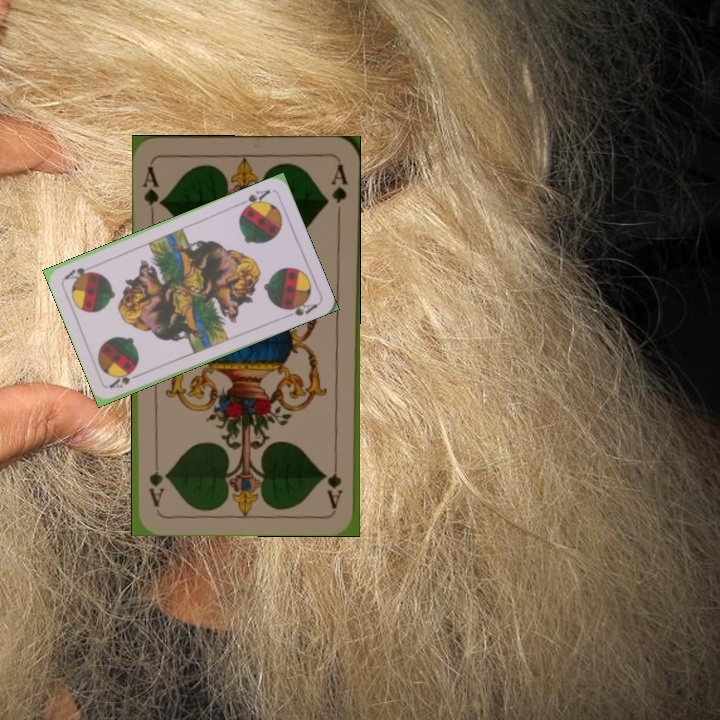GA: (139, 162, 166, 219), (324, 451, 345, 510)
SA: (235, 186, 273, 213), (105, 367, 145, 391)
